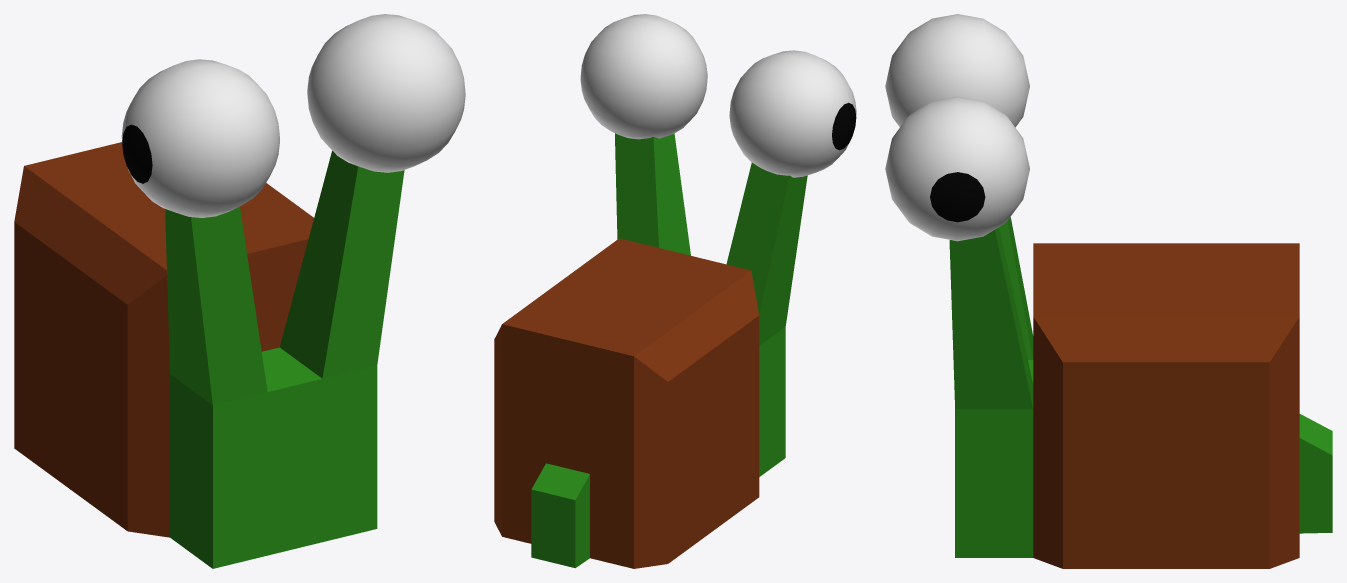
Rendered from Snail.fbx.
The picture shows the model from 3 angles, left to right: view 1: azimuth 30°, elevation 25°; view 2: azimuth 150°, elevation 25°; view 3: azimuth 270°, elevation 25°; orthographic projection. The views are drawn at different scales.
Parts seen in each view (by area): view 1: Snail; view 2: Snail; view 3: Snail.
Boxes of the visible parts, bbox=[...] form: Snail: bbox=[14, 14, 465, 568]; Snail: bbox=[494, 14, 856, 568]; Snail: bbox=[885, 14, 1332, 568].
Bounding box in the file's own units: 51.08 × 67.19 × 76.11.
